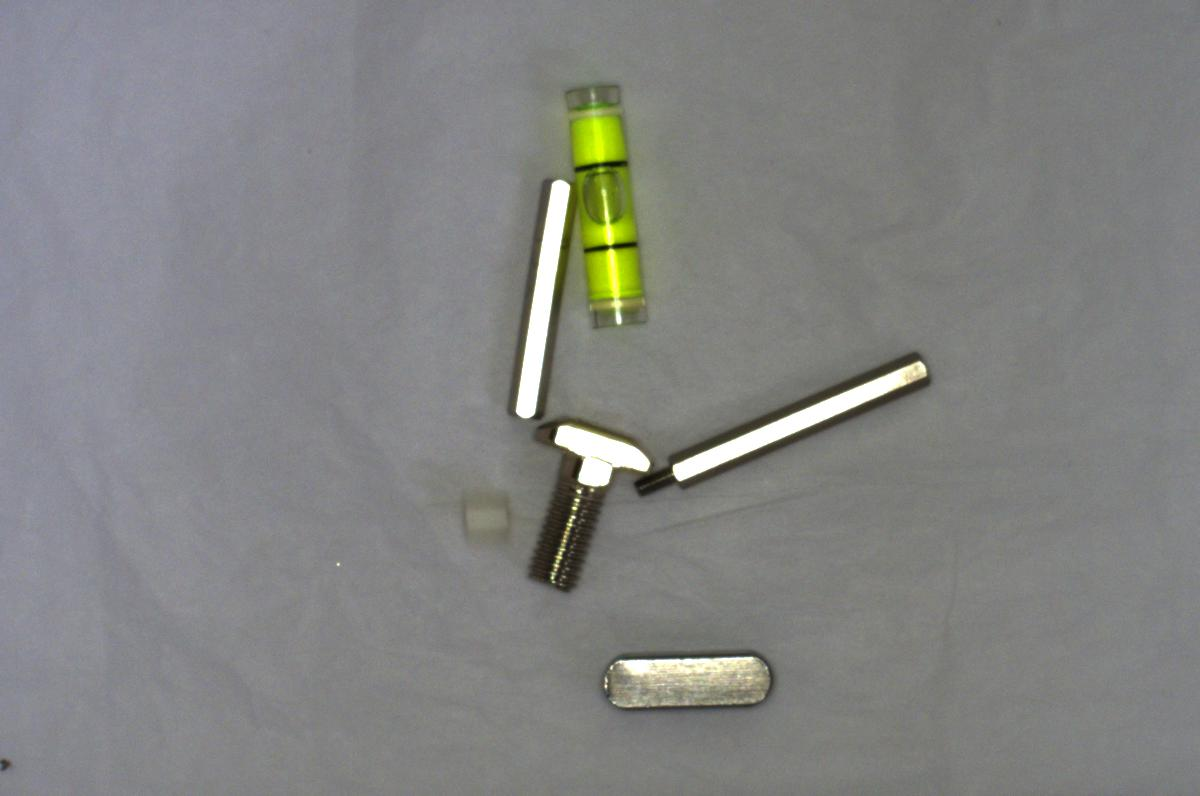Double hexagonal column: (502, 172, 573, 425)
Hexagonal steel column: (632, 354, 935, 501)
Horizontal bubble: (559, 70, 650, 333)
Keybar: (597, 642, 773, 714)
Plastic cushion pillar: (438, 483, 526, 556)
T-shaped screw: (518, 413, 650, 579)
